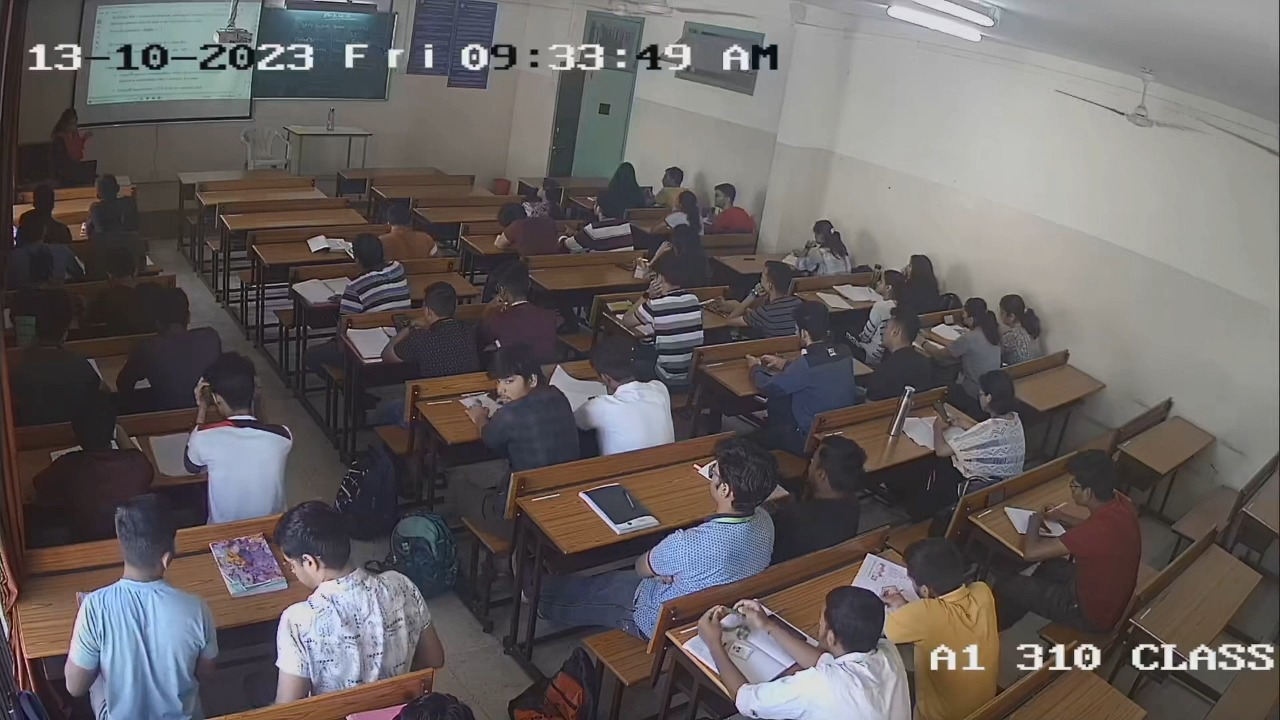cell-phones: (931, 397, 954, 429), (389, 312, 413, 334), (603, 298, 635, 313), (614, 259, 634, 272), (941, 312, 956, 326)
person: (928, 369, 1029, 480), (389, 281, 479, 375), (621, 255, 705, 343), (939, 297, 1002, 366), (662, 222, 707, 276)
